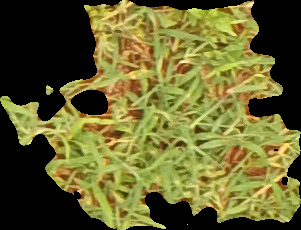grass: (1, 1, 300, 229)
